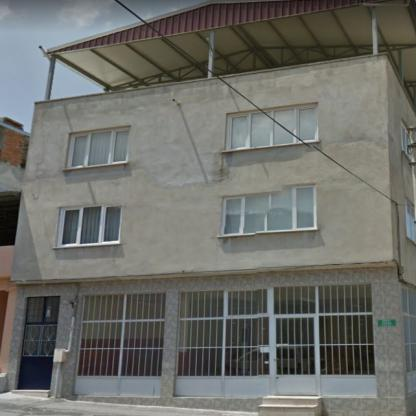door: (269, 316, 321, 395), (17, 324, 56, 389)
window: (177, 283, 374, 378), (75, 292, 165, 379), (222, 185, 315, 236), (225, 112, 300, 150), (58, 206, 120, 246), (68, 129, 128, 168), (265, 106, 317, 141), (26, 298, 58, 322), (402, 123, 412, 160), (407, 199, 415, 241)
